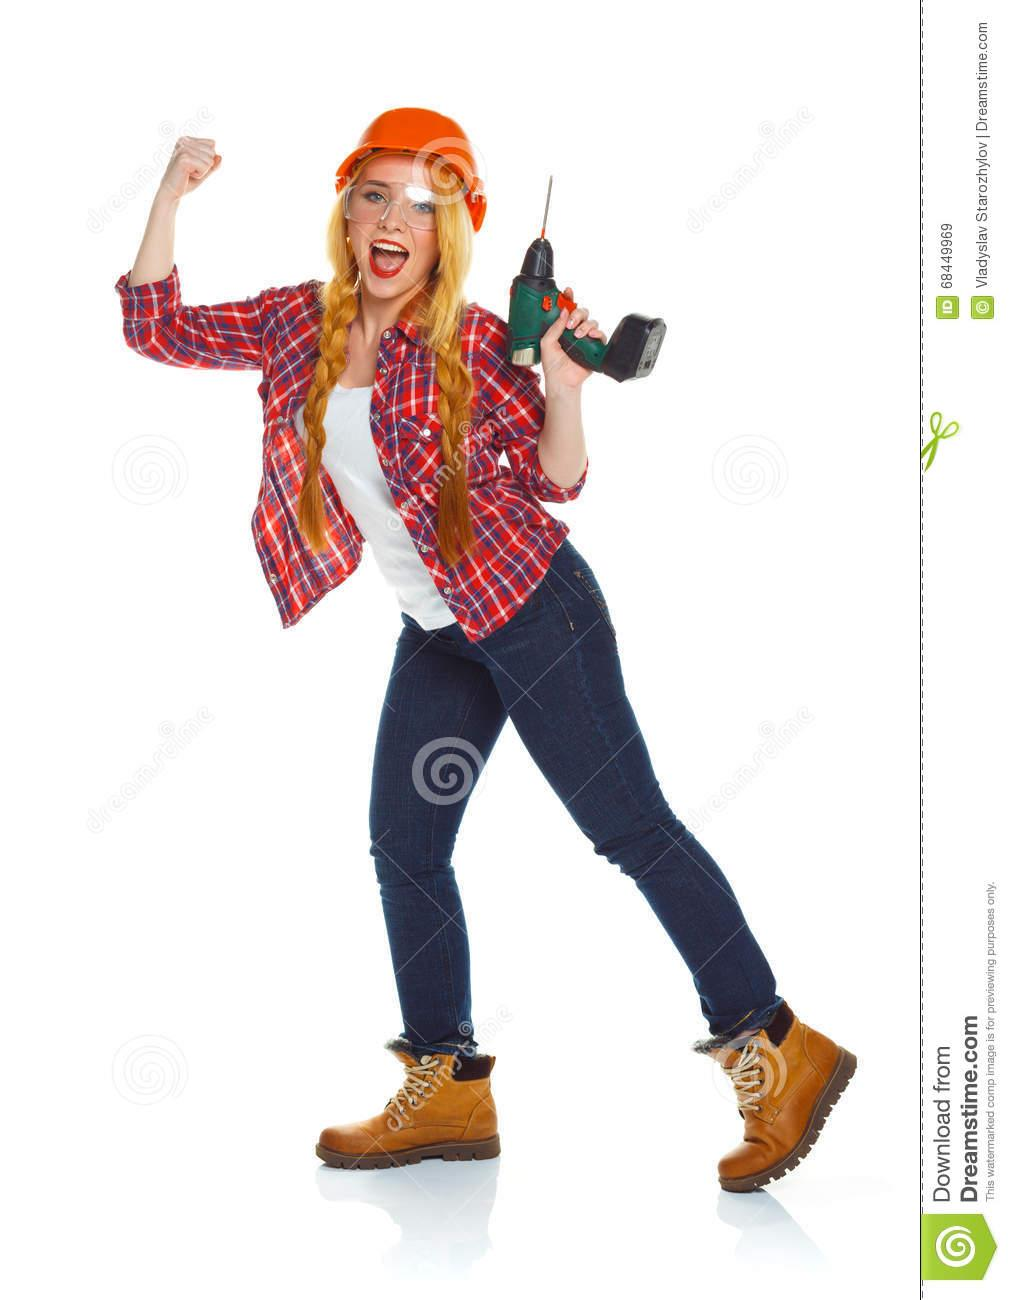helmet: (317, 107, 510, 224)
